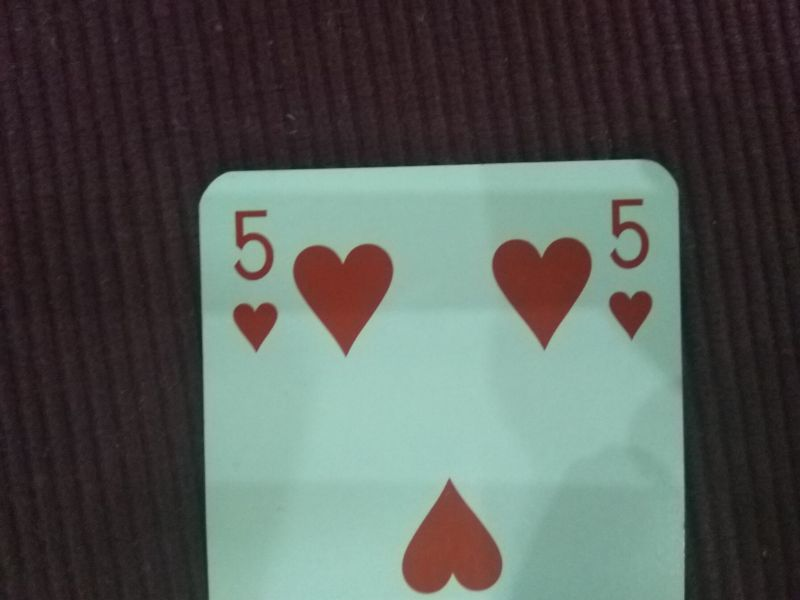5h: (225, 202, 284, 358), (604, 192, 659, 347)
